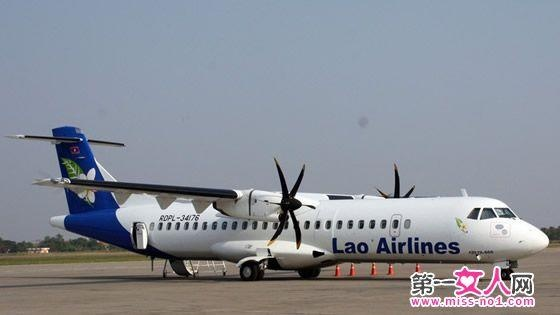airplane: (4, 124, 552, 272)
